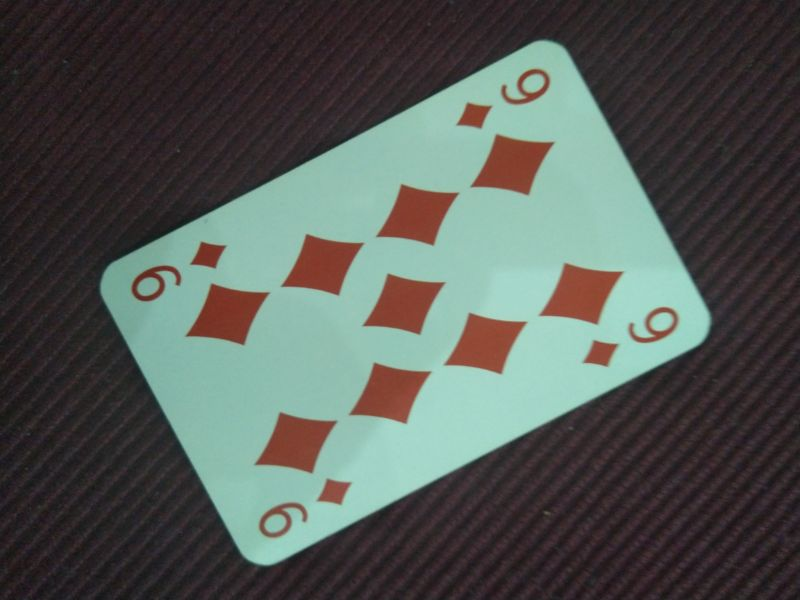9d: (580, 303, 684, 370), (253, 474, 355, 540), (455, 64, 554, 131), (130, 239, 230, 304)
